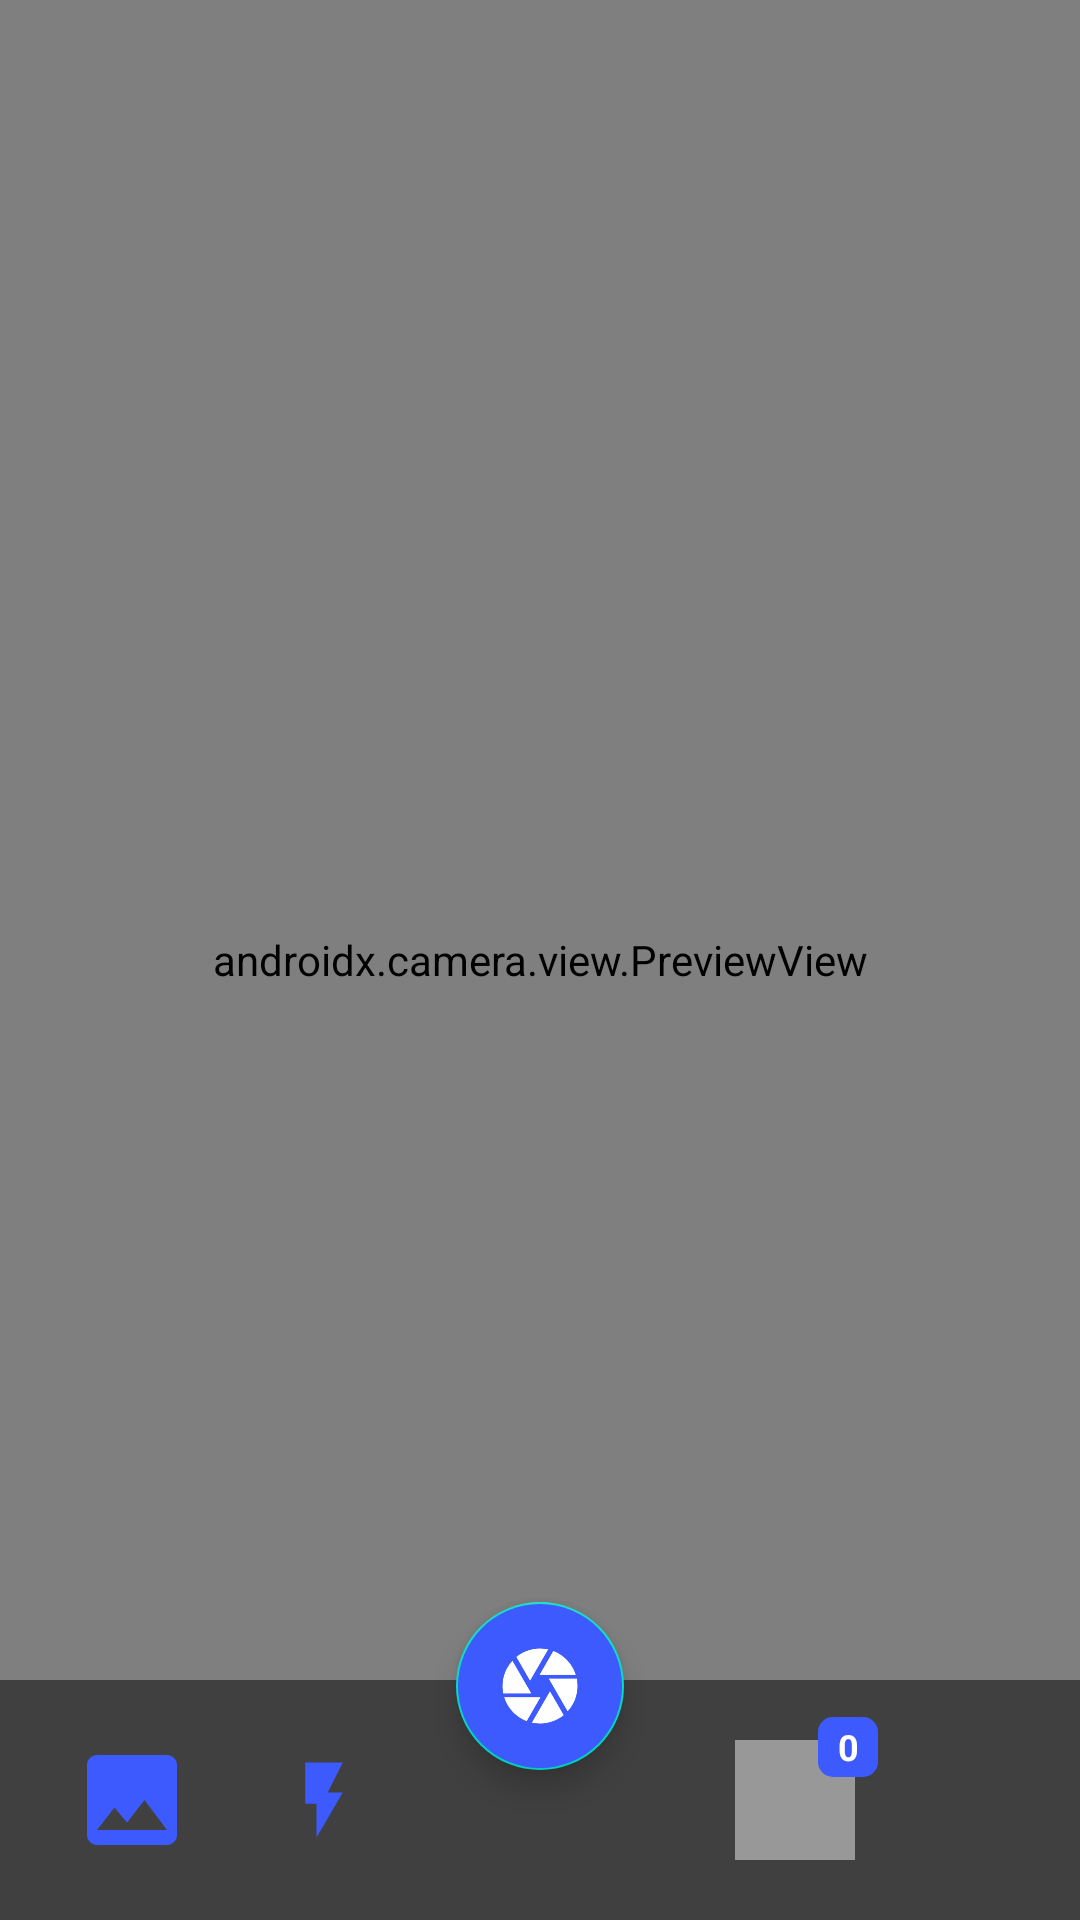

Icon bounding boxes for this 1080 x 1920 phone screenshot, format box=[x1, y1, x2, y2]:
Image to pick photo frome gallery: box=[87, 1755, 177, 1845]
open flash: box=[305, 1762, 343, 1837]
